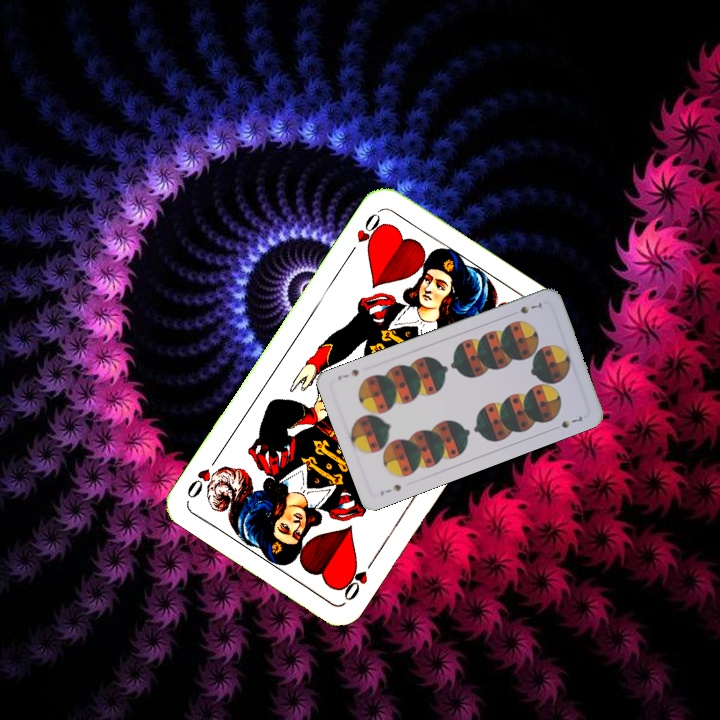HO: (344, 207, 387, 259), (337, 552, 379, 604)
S7: (516, 298, 545, 316), (376, 480, 404, 498)
